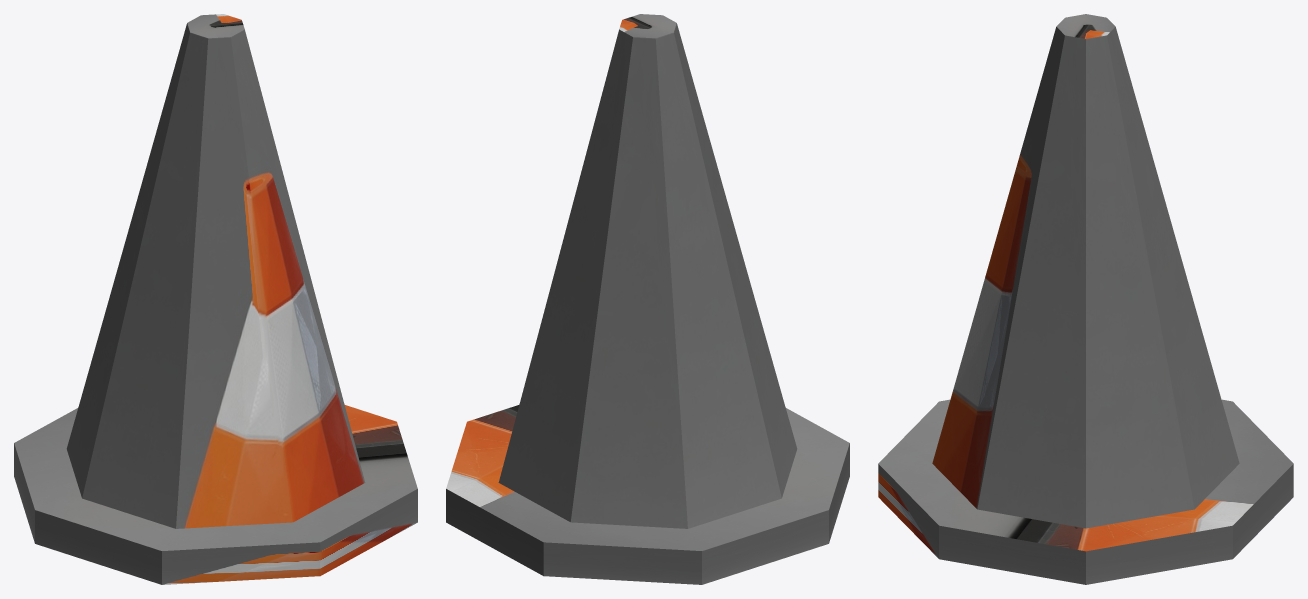
File: traffic_cone.glb
The picture shows the model from 3 angles, left to right: view 1: azimuth 30°, elevation 25°; view 2: azimuth 150°, elevation 25°; view 3: azimuth 270°, elevation 25°; orthographic projection.
Visible parts, largest first — view 1: Cone; view 2: Cone; view 3: Cone.
Boxes of the visible parts, x1,y1,x2,y2 form: Cone: (14,14,417,584); Cone: (446,14,849,584); Cone: (878,14,1293,584).
Bounding box in the file's own units: 0.56 × 0.7 × 0.56.
1 material, 1 textured.
